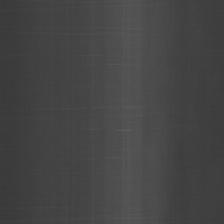waist_folding: (88, 14, 155, 196)
